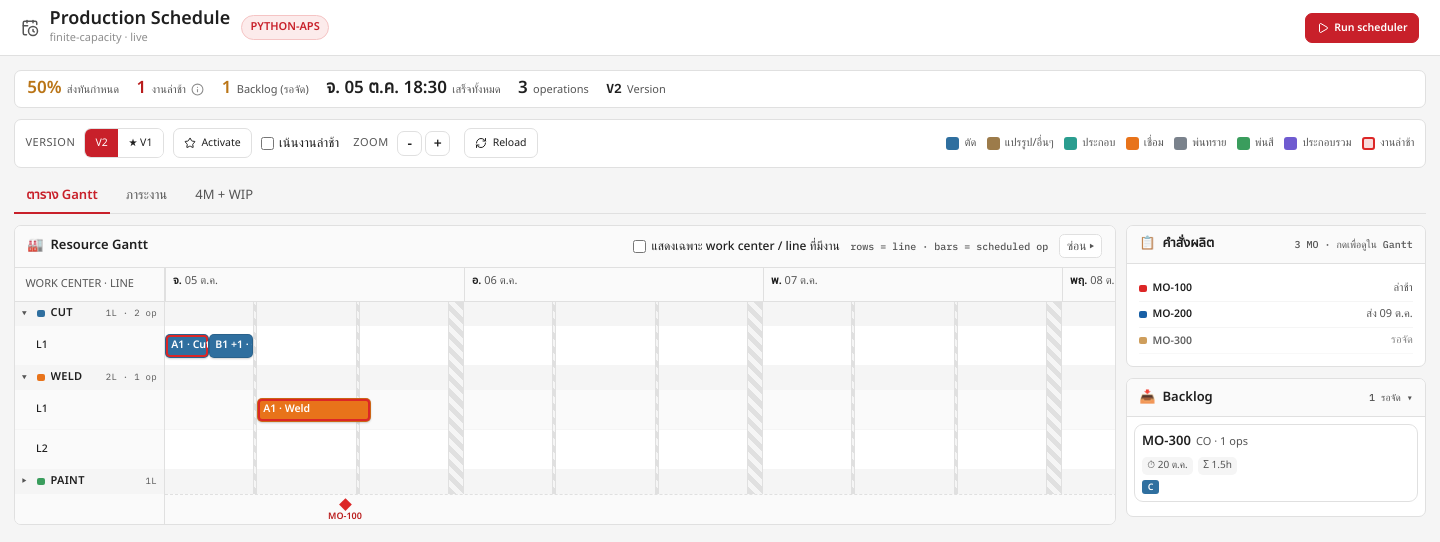
ProductionSchedule › collapses the backlog list
Click the button "1 รอจัด ▾" at (1391, 398), box [1369,390,1413,405]
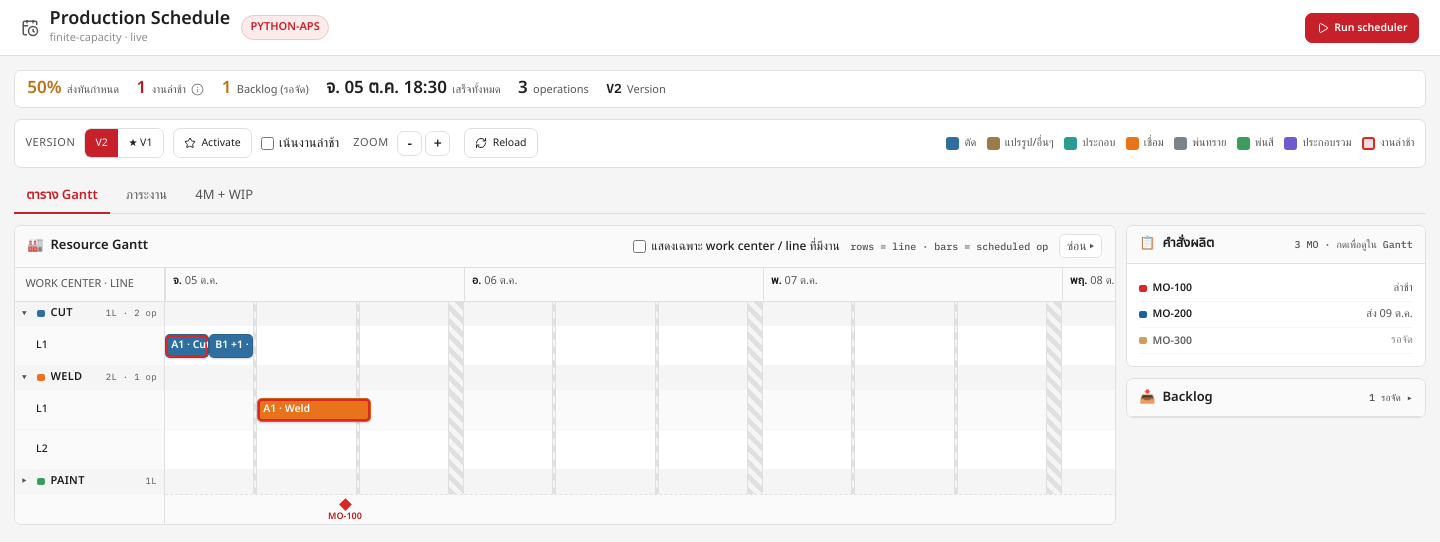
Result: the element with test id "backlog-card" is gone
